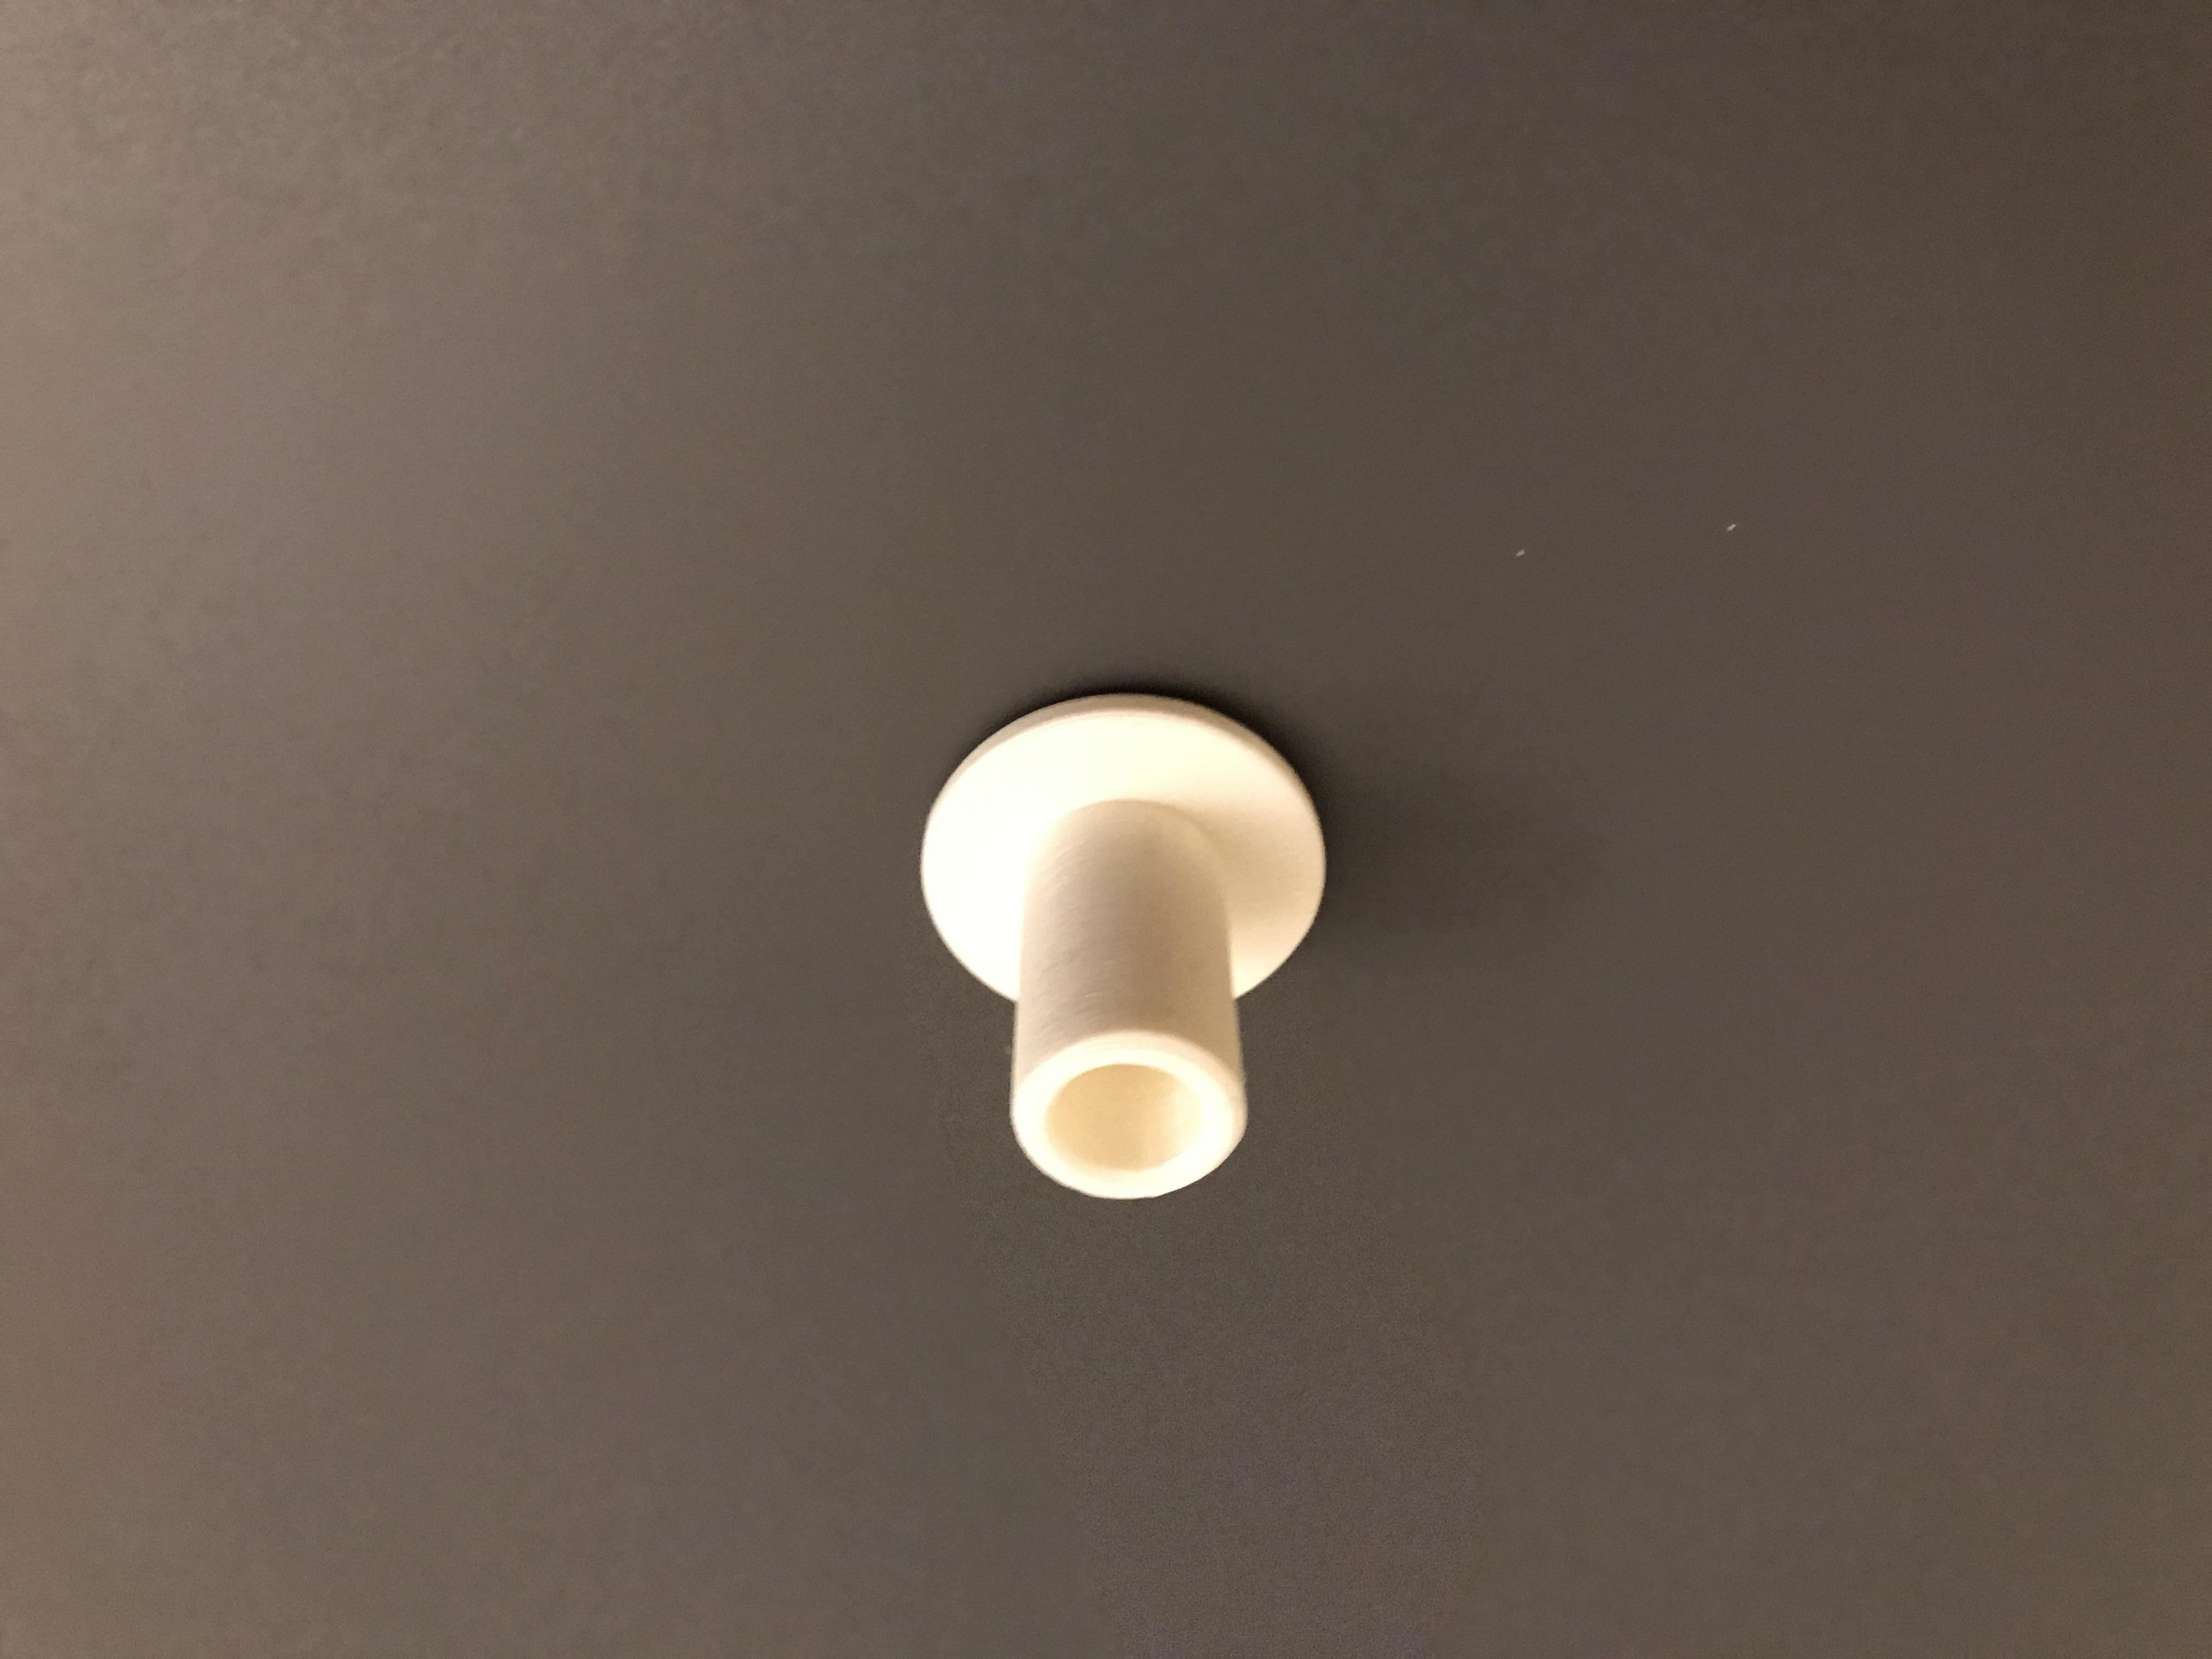White Cone: (906, 690, 1345, 1213)
